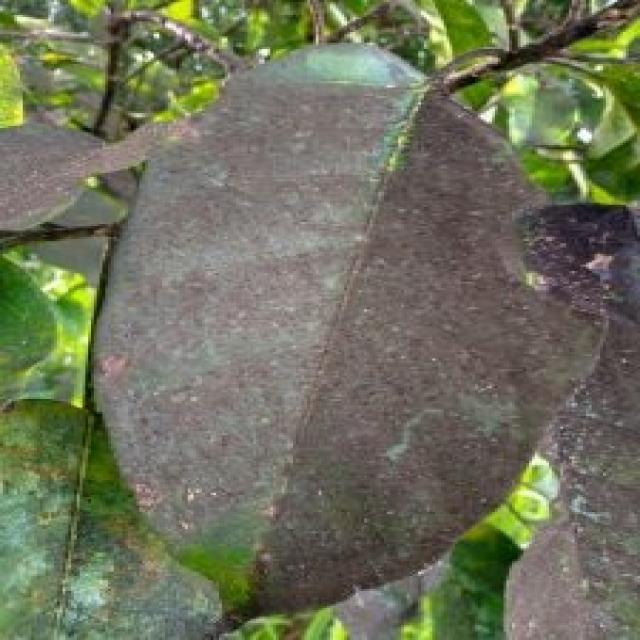Sooty Mold: (80, 38, 608, 619), (498, 198, 637, 638)
